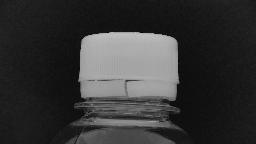Broken Ring: (96, 76, 154, 100)
Loose Cap: (72, 74, 186, 115)
